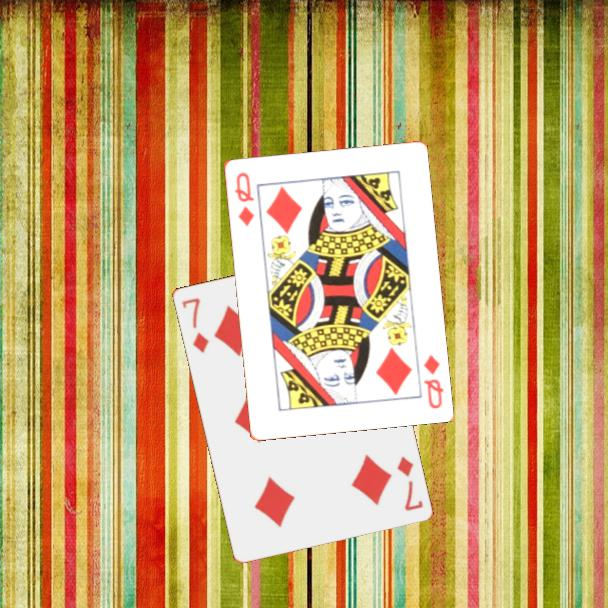d07: (178, 294, 211, 355), (393, 452, 425, 514)
d12: (419, 351, 446, 411), (231, 168, 257, 229)
